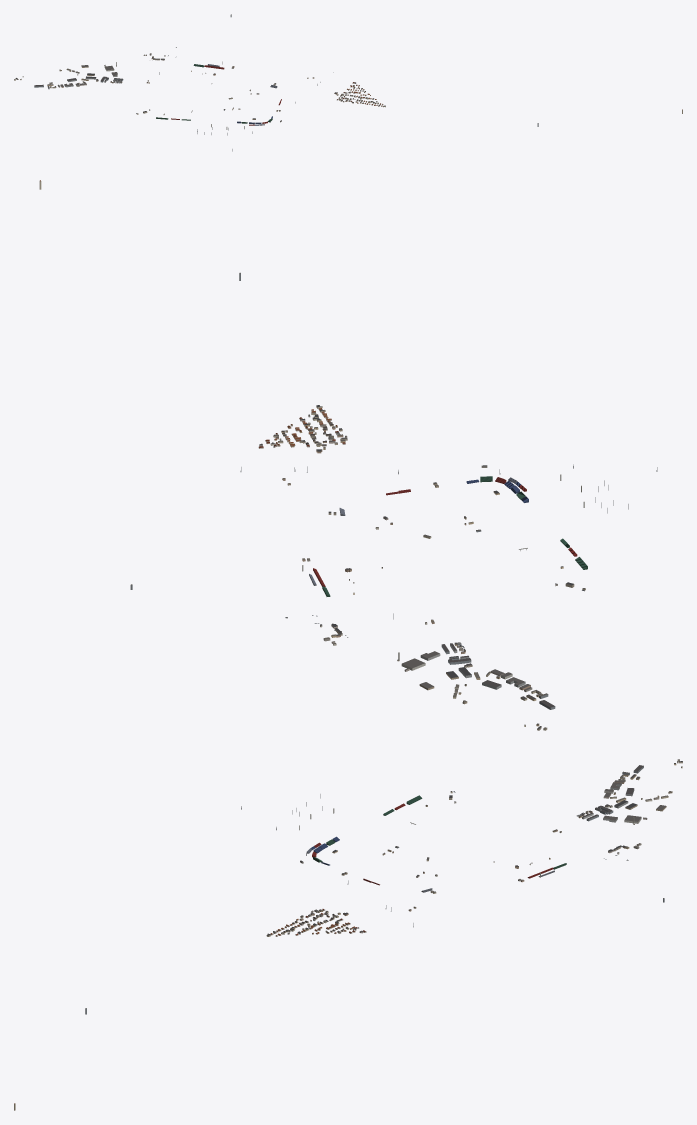
Rendered from scenery.glb.
3 renders of one model, top to bottom at view 1: azimuth 30°, elevation 25°; view 2: azimuth 150°, elevation 25°; view 3: azimuth 270°, elevation 25°, orthographic. The views are drawn at different scales.
Parts seen in each view (by area): view 1: chunk_17_16, chunk_13_12; view 2: chunk_17_16, chunk_13_12; view 3: chunk_17_16, chunk_13_12.
Part boxes in pixels (box(x1,y1,x2,y2)): chunk_17_16: box(334, 84, 383, 105); chunk_13_12: box(49, 65, 98, 88); chunk_17_16: box(265, 409, 347, 453); chunk_13_12: box(419, 663, 541, 704); chunk_17_16: box(275, 909, 357, 936); chunk_13_12: box(603, 775, 672, 811).
Bounding box in the file's own units: 4180 × 153 × 3284.
